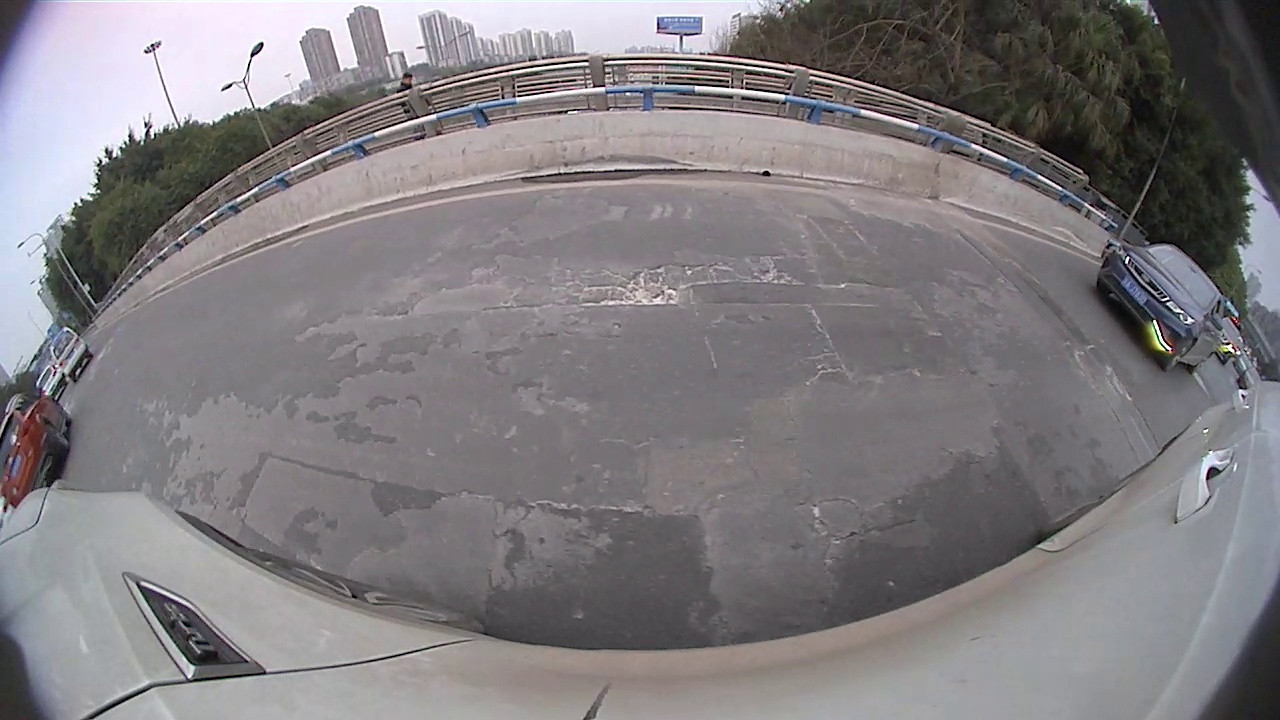bus: (770, 101, 1073, 251)
car: (1016, 227, 1279, 472), (333, 150, 533, 258), (767, 137, 928, 230), (527, 143, 588, 195), (707, 159, 770, 192)
front: (1054, 300, 1169, 433), (518, 186, 533, 215), (767, 178, 783, 205)
rear: (447, 198, 477, 247), (814, 183, 840, 222)
truck: (578, 19, 720, 203)
